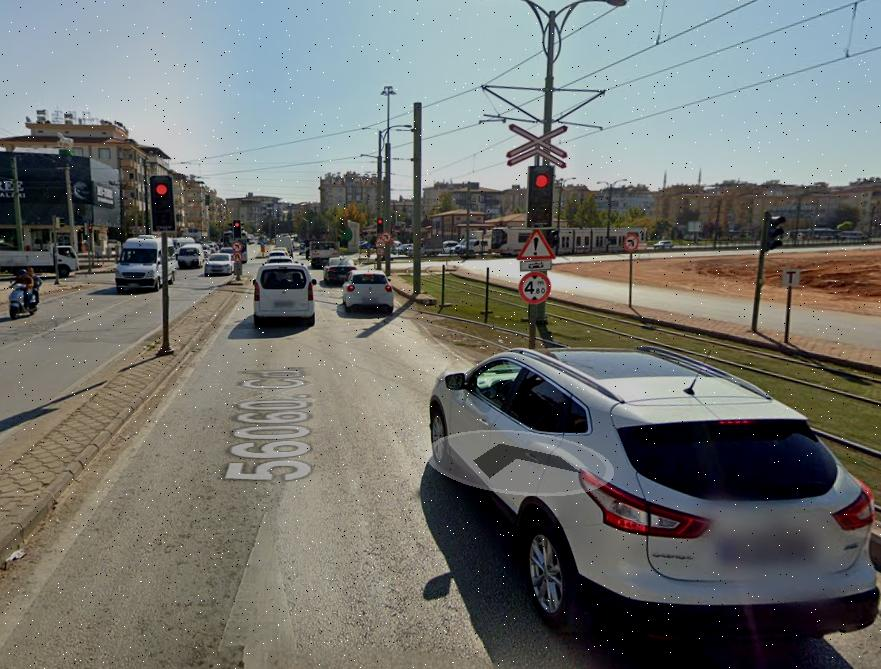leftturnsareforbidden: (625, 234, 638, 250), (232, 241, 244, 252), (381, 233, 392, 243)
redlight: (528, 165, 553, 228), (149, 175, 173, 228), (233, 219, 242, 237), (376, 219, 383, 234)
